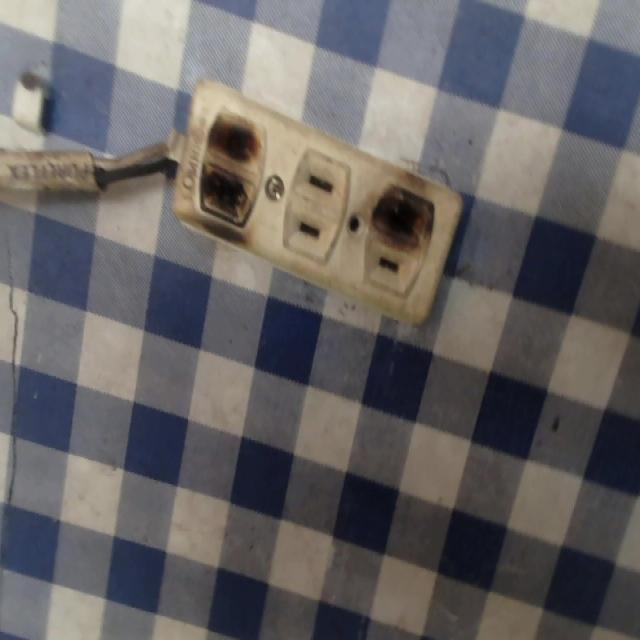-: (191, 104, 270, 244), (365, 178, 438, 258)
